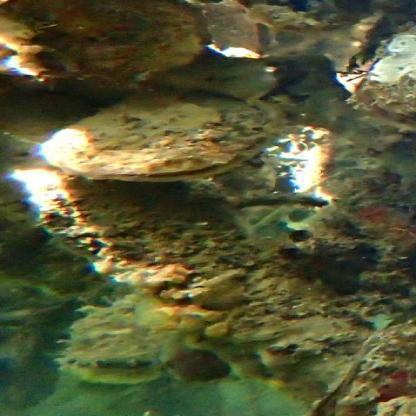Oyster- Indeterminate: (45, 84, 284, 182), (61, 292, 176, 383), (220, 192, 329, 219)
Oyster-Closed: (37, 176, 245, 289), (308, 333, 375, 416), (369, 37, 416, 120)
Oyster-Open: (198, 3, 277, 59)
